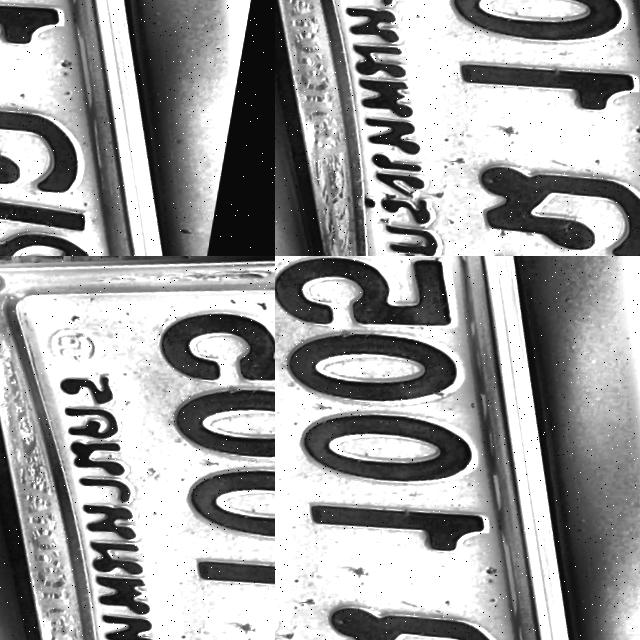license-plate: (275, 256, 640, 640)
